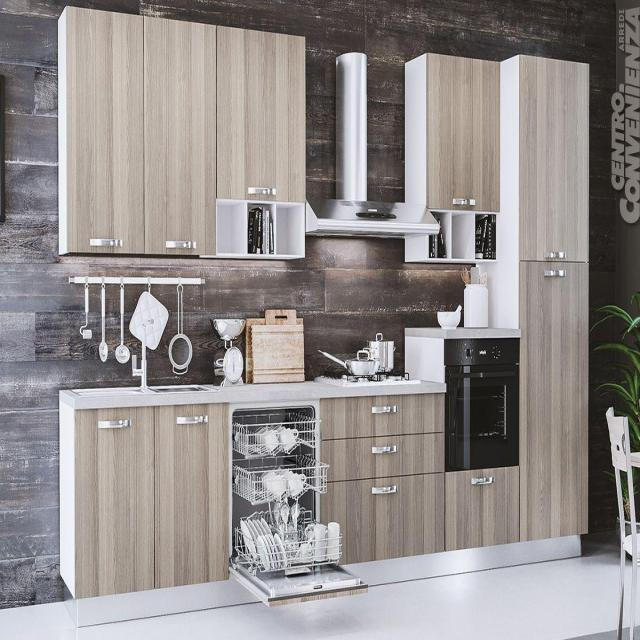dishwasher: (224, 396, 370, 611)
